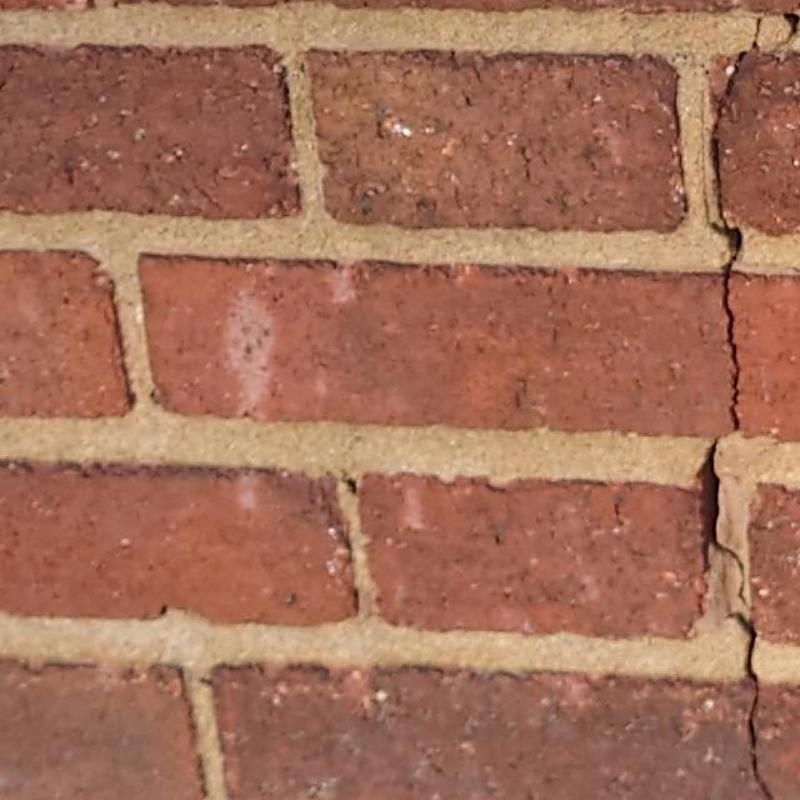crack: (700, 17, 759, 430), (696, 439, 750, 609), (727, 612, 775, 799), (772, 14, 799, 51)
